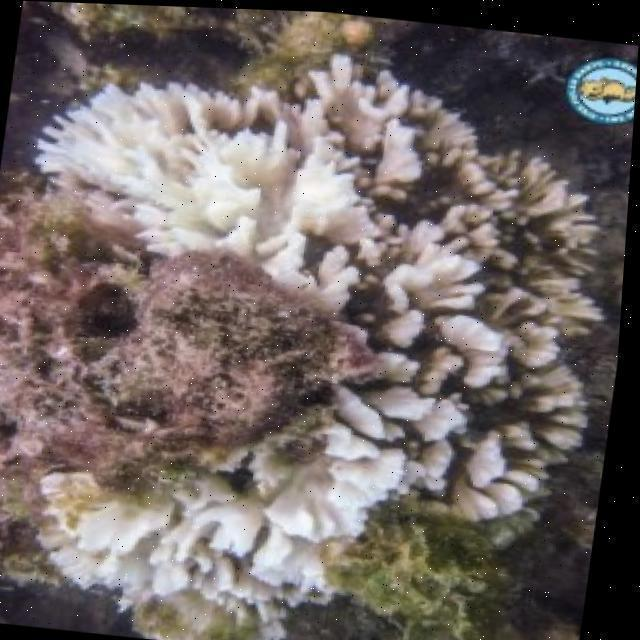Bleached Coral: (34, 431, 433, 614), (22, 83, 361, 266)
